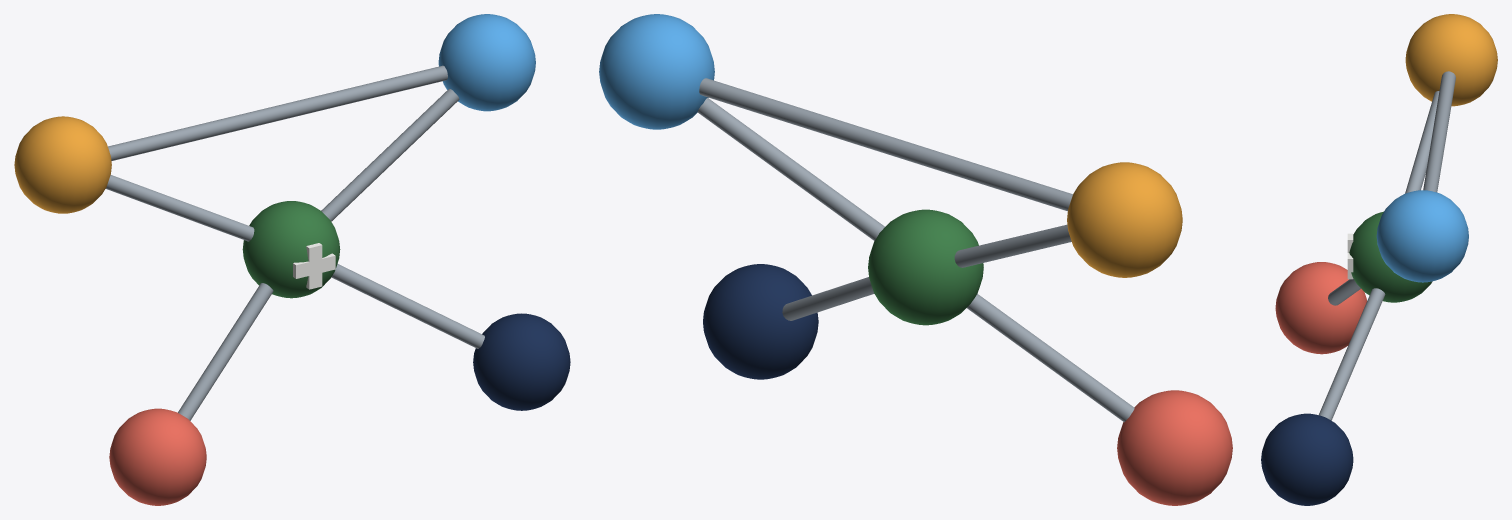
File: ph_network.glb
3 renders of one model, left to right at view 1: azimuth 30°, elevation 25°; view 2: azimuth 150°, elevation 25°; view 3: azimuth 270°, elevation 25°, orthographic. The views are drawn at different scales.
Parts seen in each view (by area): view 1: ph_network; view 2: ph_network; view 3: ph_network.
Part boxes in pixels (bbox=[...]): ph_network: bbox=[14, 14, 570, 505]; ph_network: bbox=[599, 14, 1232, 505]; ph_network: bbox=[1261, 14, 1497, 505].
Size of the model in its own units: 3.74 by 2.54 by 1.64.
